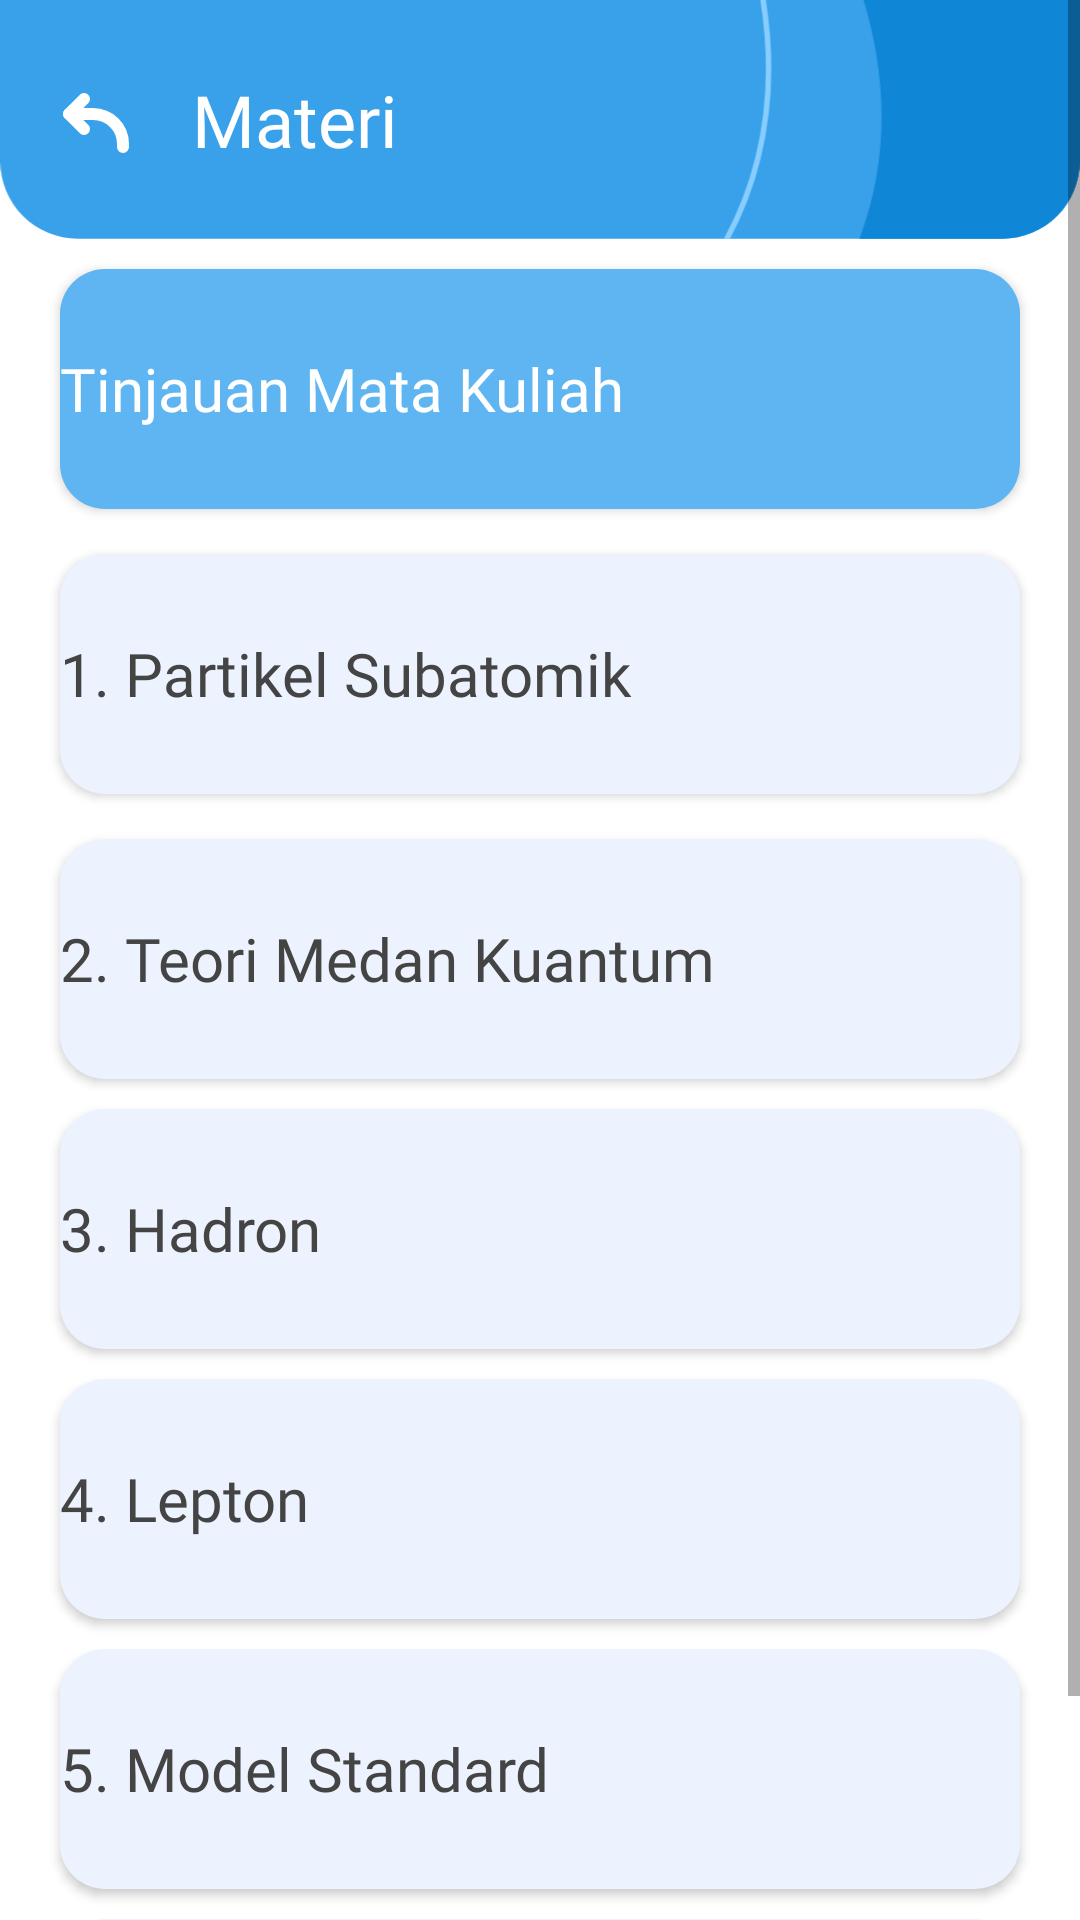

Icons on this 1080w x 1920h Android screen, each with the point to tap as point (x, y):
arrow back: point (96, 123)
